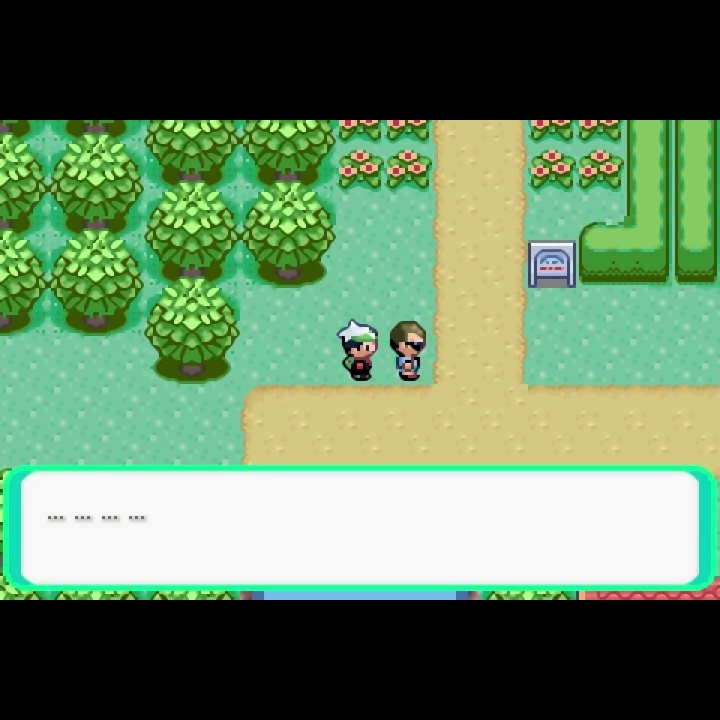npc: (383, 319, 428, 384), (335, 317, 380, 381)
wall: (240, 179, 337, 290), (50, 227, 146, 338), (145, 275, 241, 385), (48, 135, 145, 230), (145, 181, 239, 279), (145, 121, 241, 183), (240, 121, 337, 179), (1, 226, 49, 338), (1, 136, 48, 229), (50, 120, 145, 141), (1, 120, 49, 140)
